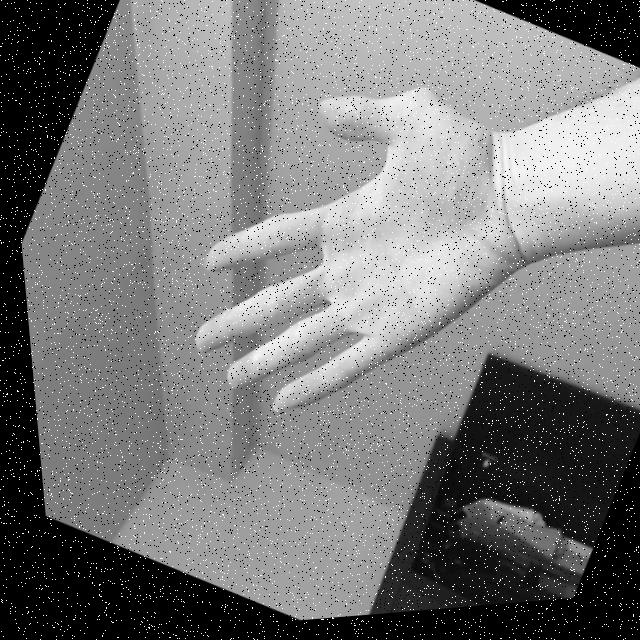hand: (132, 12, 598, 502)
